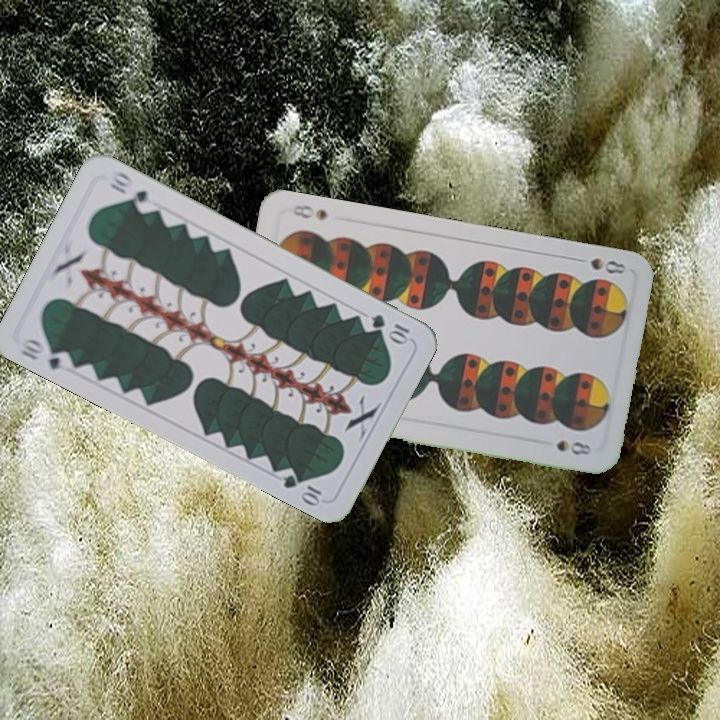G10: (16, 333, 75, 374), (367, 310, 413, 346)
S8: (570, 253, 629, 277)
